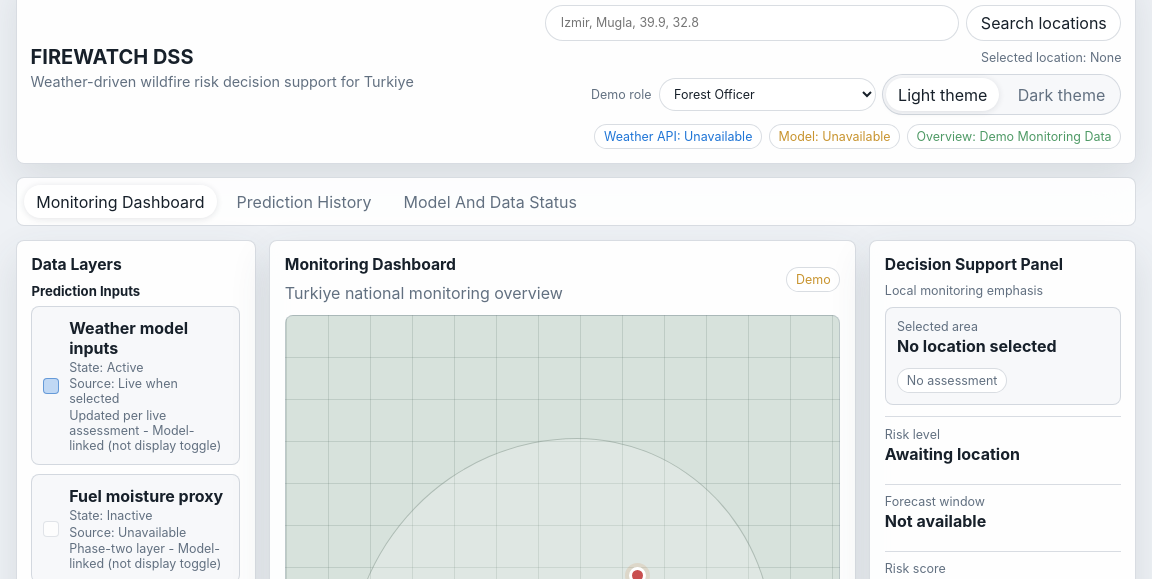
Test: FIREWATCH dashboard shell › shows model unavailable messages without replacing them with client-computed risk
Type "Antalya" into the search field labelled "Location search".
click(752, 23); type("Antalya")  # box [545, 5, 959, 41]
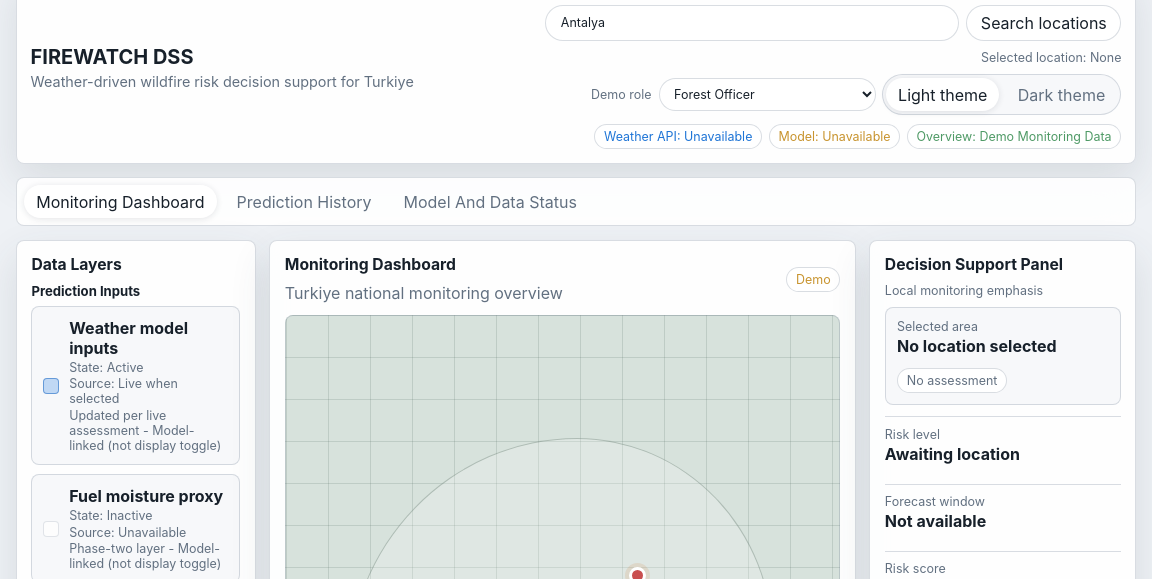
Click the button "Search locations".
click(1044, 23)  # box [966, 5, 1121, 41]
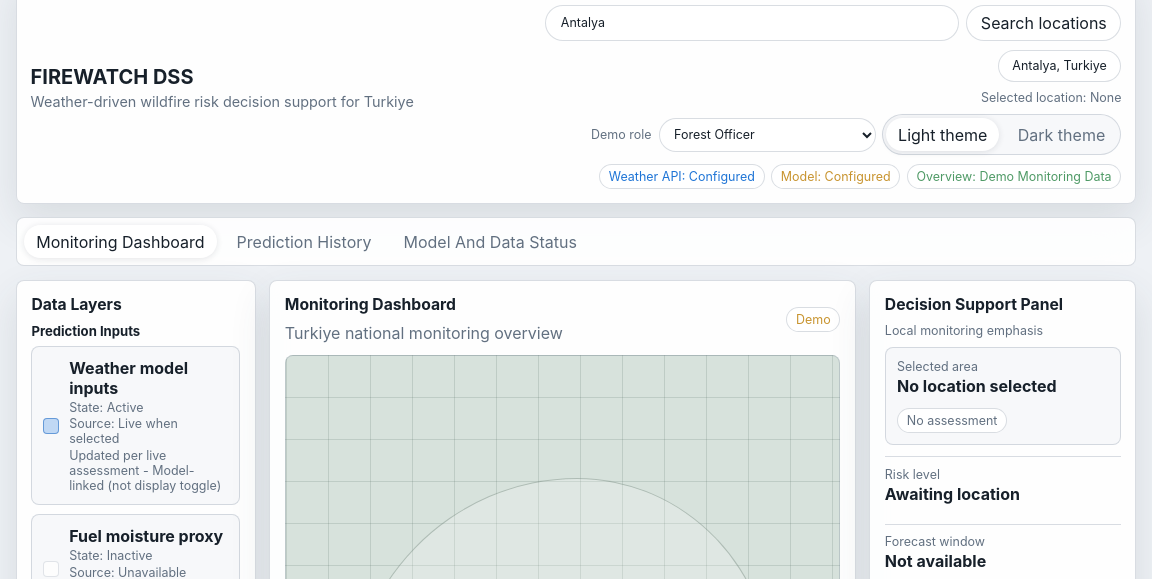
Click the button "Antalya, Turkiye".
click(1060, 66)  # box [998, 50, 1121, 82]
(page scrolled)
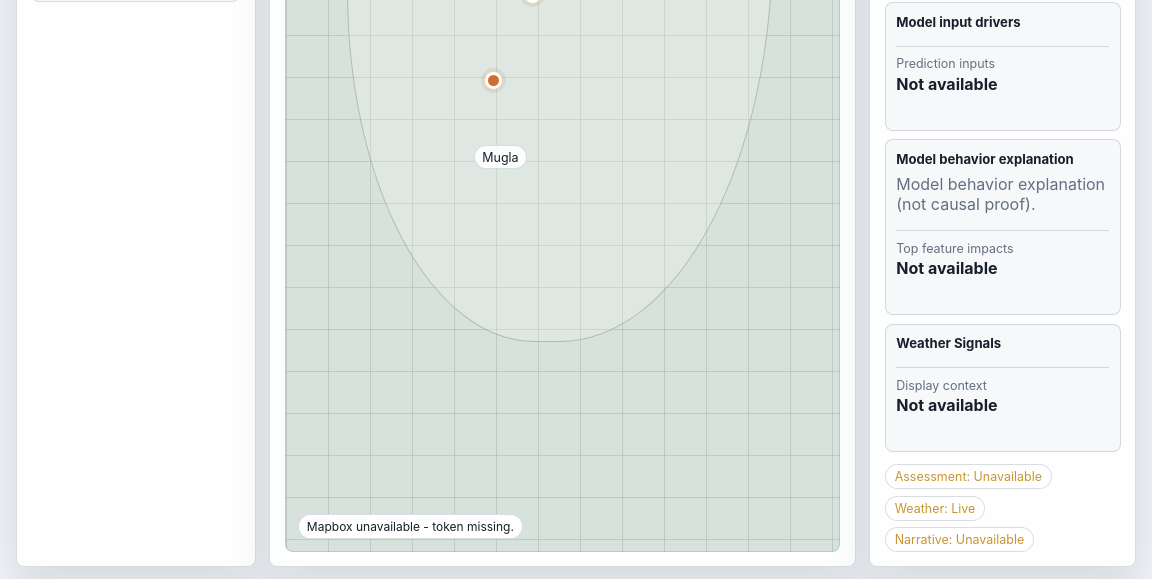
Expected: the text "Weather: Live" is shown, [885, 496, 985, 520]
